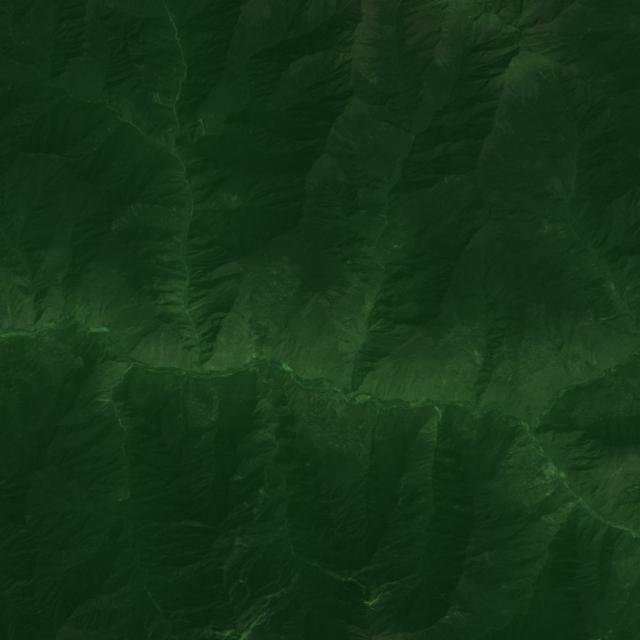landslides: (595, 307, 631, 323), (491, 415, 507, 450), (233, 465, 263, 481), (338, 321, 364, 339), (3, 294, 13, 328), (156, 93, 174, 109), (434, 458, 452, 472), (536, 524, 556, 536), (415, 457, 434, 468), (475, 412, 485, 432), (367, 593, 382, 606), (542, 515, 557, 526), (597, 321, 622, 327), (138, 204, 148, 219), (470, 411, 479, 427), (49, 256, 64, 264), (338, 337, 355, 344), (419, 462, 435, 469), (467, 410, 476, 422), (131, 205, 138, 220), (486, 553, 494, 566), (474, 351, 484, 361), (559, 506, 569, 516)
